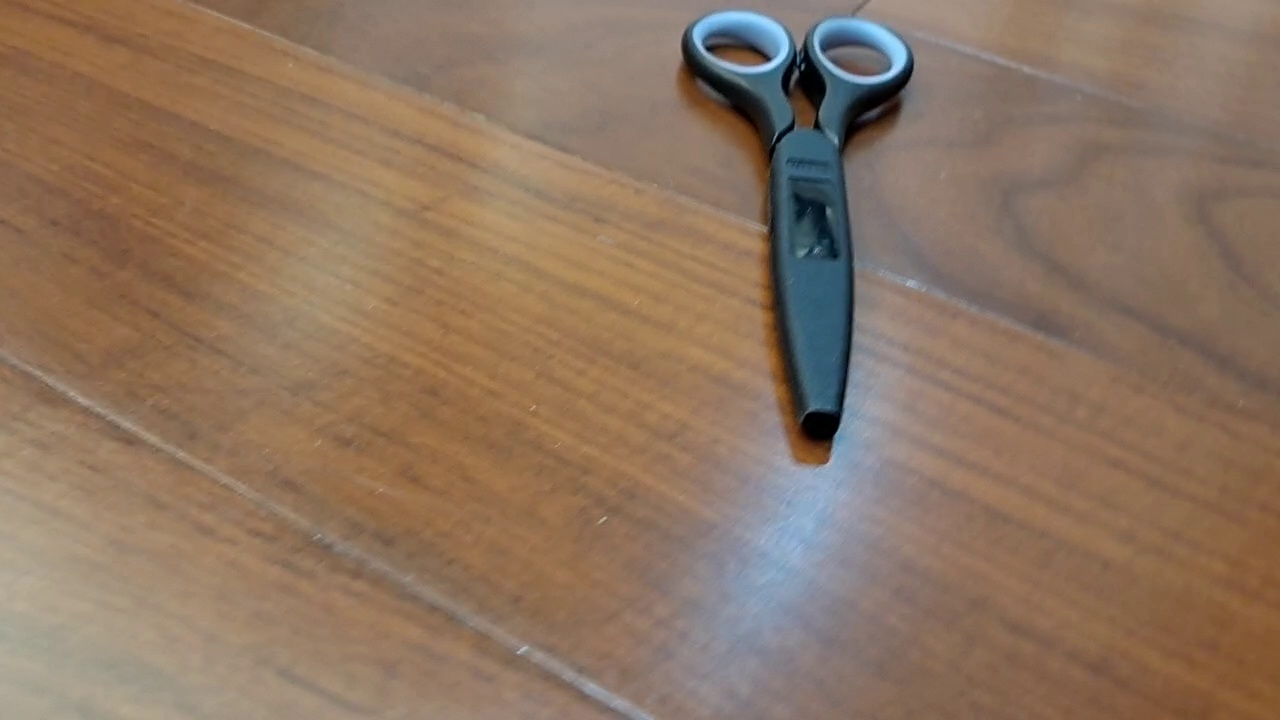scissors: (680, 7, 915, 441)
